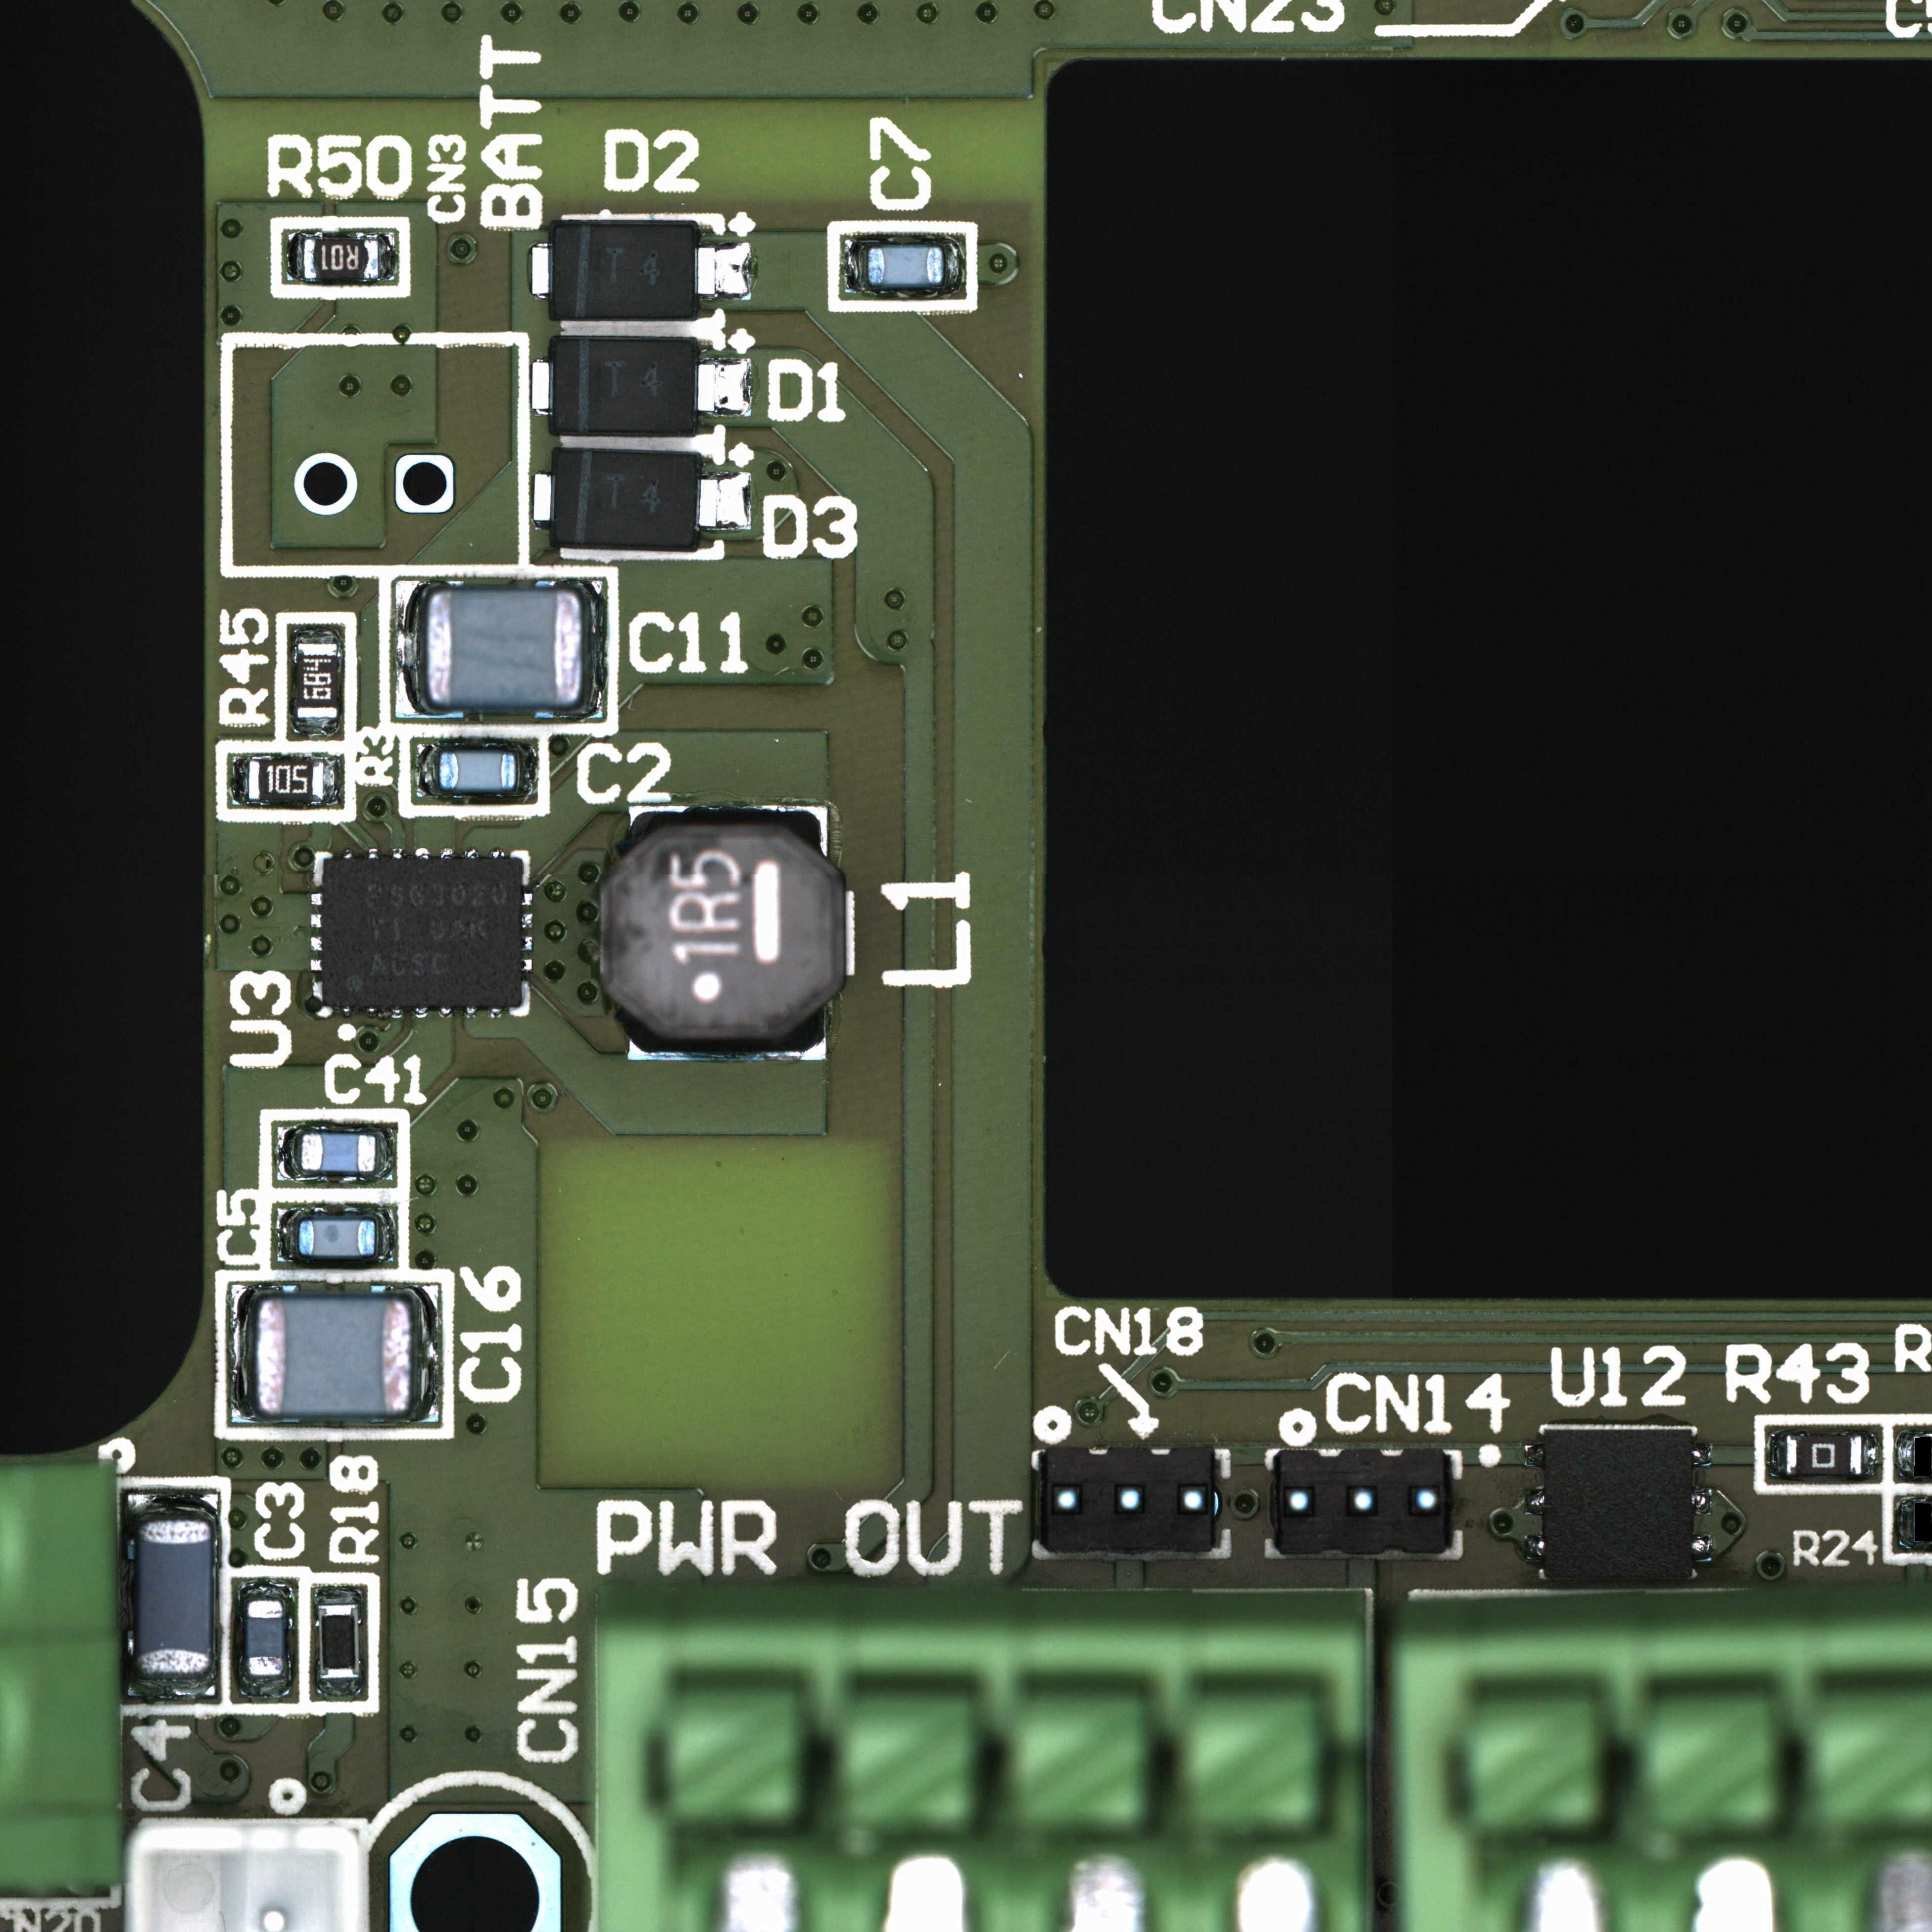Package: (596, 805, 846, 1062), (324, 860, 518, 1005), (1545, 1430, 1691, 1582), (255, 1297, 414, 1421), (426, 589, 584, 709), (556, 449, 695, 550), (554, 223, 694, 320), (554, 338, 694, 432), (136, 1520, 212, 1675), (318, 1603, 361, 1679), (297, 642, 340, 718), (439, 750, 517, 791), (303, 239, 379, 280), (246, 1599, 285, 1677), (301, 1132, 375, 1173), (867, 246, 943, 285), (249, 761, 324, 800), (1787, 1435, 1861, 1474), (299, 1219, 375, 1256)
Solder: (395, 580, 426, 718), (226, 1284, 255, 1424), (694, 357, 752, 418), (584, 579, 609, 718), (414, 1284, 439, 1422), (695, 242, 752, 301), (695, 472, 752, 531), (127, 1677, 216, 1704), (127, 1493, 218, 1518), (276, 1127, 301, 1182), (531, 359, 554, 416), (276, 1207, 299, 1263), (416, 743, 439, 798), (844, 239, 867, 292), (531, 242, 552, 299), (375, 1207, 396, 1261), (237, 1677, 290, 1698), (517, 743, 538, 796), (533, 474, 556, 522), (228, 755, 249, 805), (379, 232, 400, 281), (239, 1580, 292, 1599), (1766, 1430, 1785, 1479), (377, 1125, 393, 1184), (846, 890, 856, 977), (290, 718, 341, 736), (1893, 1431, 1913, 1477), (324, 755, 341, 805), (1861, 1430, 1879, 1477), (1897, 1499, 1914, 1546), (313, 1587, 363, 1603), (287, 232, 303, 281), (317, 1679, 363, 1695), (945, 242, 959, 292), (1691, 1532, 1714, 1562), (294, 628, 341, 642), (1691, 1440, 1714, 1468), (1523, 1486, 1545, 1514), (1523, 1442, 1545, 1470), (1691, 1488, 1713, 1516), (1525, 1534, 1545, 1560), (520, 911, 534, 931), (487, 846, 506, 860), (520, 959, 534, 975), (520, 892, 534, 908), (364, 846, 380, 860), (414, 1005, 430, 1019), (464, 1005, 479, 1019), (310, 936, 324, 952), (520, 934, 533, 952), (439, 847, 456, 860), (340, 1005, 357, 1017), (437, 1007, 455, 1019), (364, 1005, 379, 1019), (414, 847, 430, 860), (464, 847, 479, 860), (389, 1007, 405, 1019), (310, 915, 324, 927), (310, 959, 324, 971), (340, 849, 356, 860), (311, 893, 324, 906), (391, 847, 403, 860), (490, 1007, 502, 1019)
